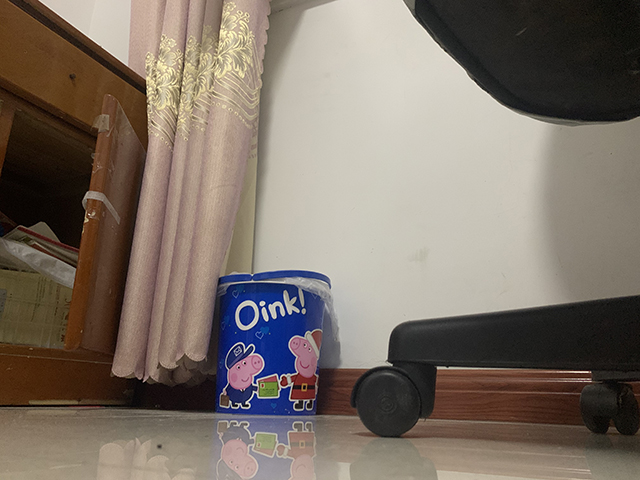cabinet: (1, 1, 148, 404)
curtain: (106, 1, 271, 389)
trashcan: (209, 267, 343, 419)
